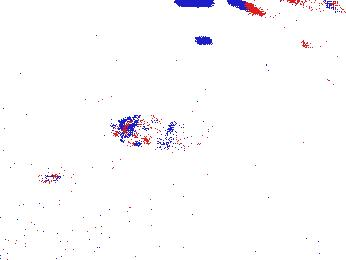X-ray fish: (112, 113, 197, 151)
red belly glassfish: (211, 188, 241, 211), (33, 168, 63, 185)
redtail glassfish: (229, 1, 343, 18)
